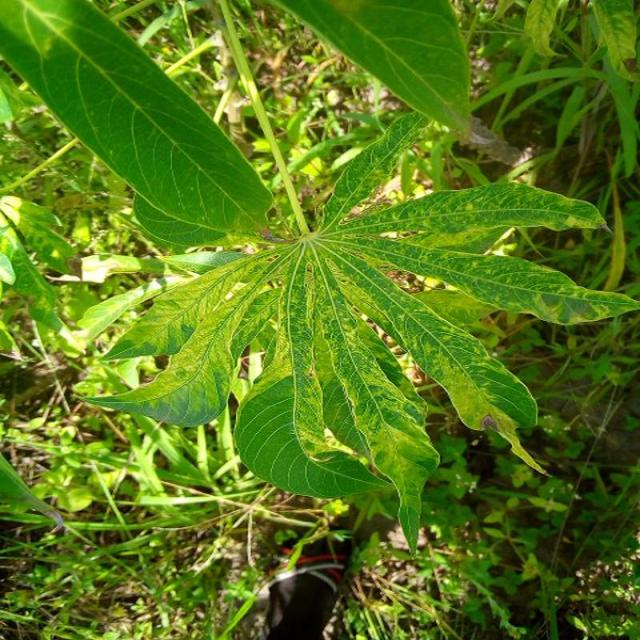cassava leaf: (2, 0, 638, 553), (0, 0, 274, 254)
